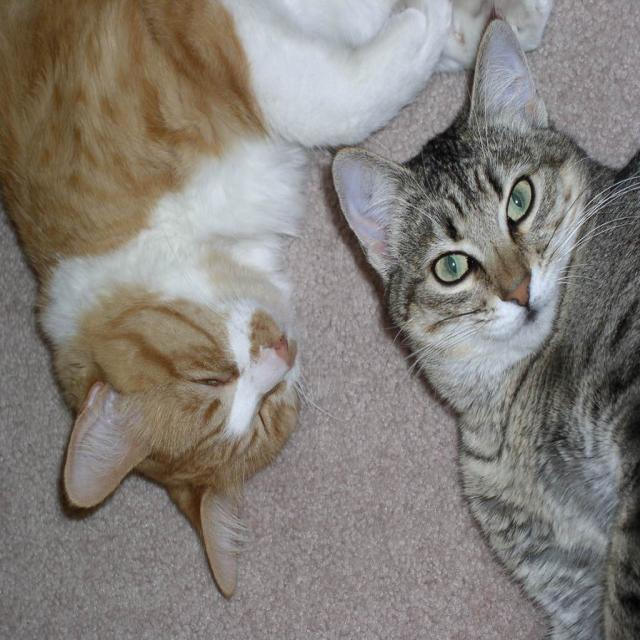Cat: (0, 0, 554, 600), (330, 15, 639, 638)
